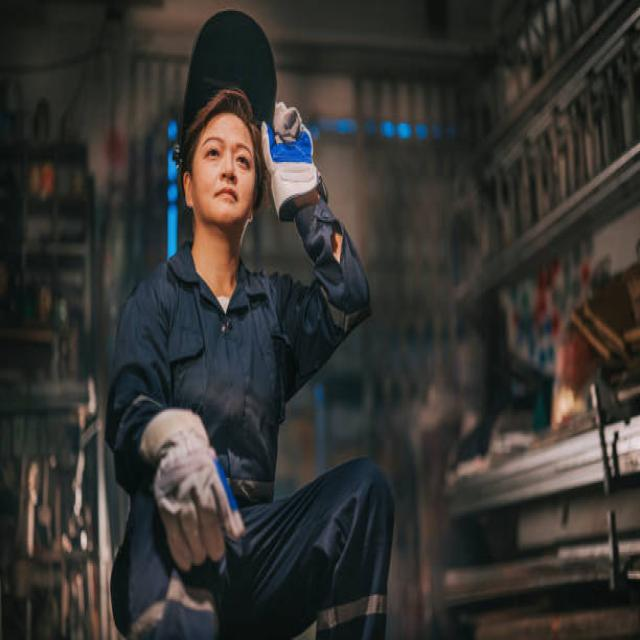Gloves: (134, 401, 250, 573), (258, 96, 330, 226)
helmet: (103, 9, 396, 637)
